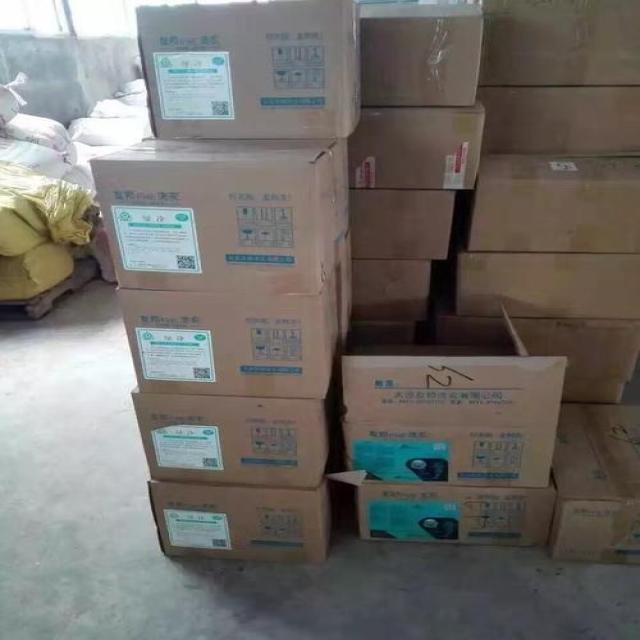box: (90, 138, 352, 297), (342, 303, 567, 487), (118, 258, 351, 399), (134, 0, 362, 139), (131, 386, 329, 488), (467, 156, 640, 253), (147, 480, 330, 565), (544, 403, 640, 563), (477, 0, 640, 87), (457, 250, 640, 321), (361, 4, 483, 107), (346, 100, 485, 188), (356, 484, 557, 544), (477, 86, 640, 157), (511, 319, 640, 382), (349, 188, 456, 261), (352, 257, 430, 323), (436, 318, 502, 345), (351, 320, 415, 344), (561, 381, 626, 403)
